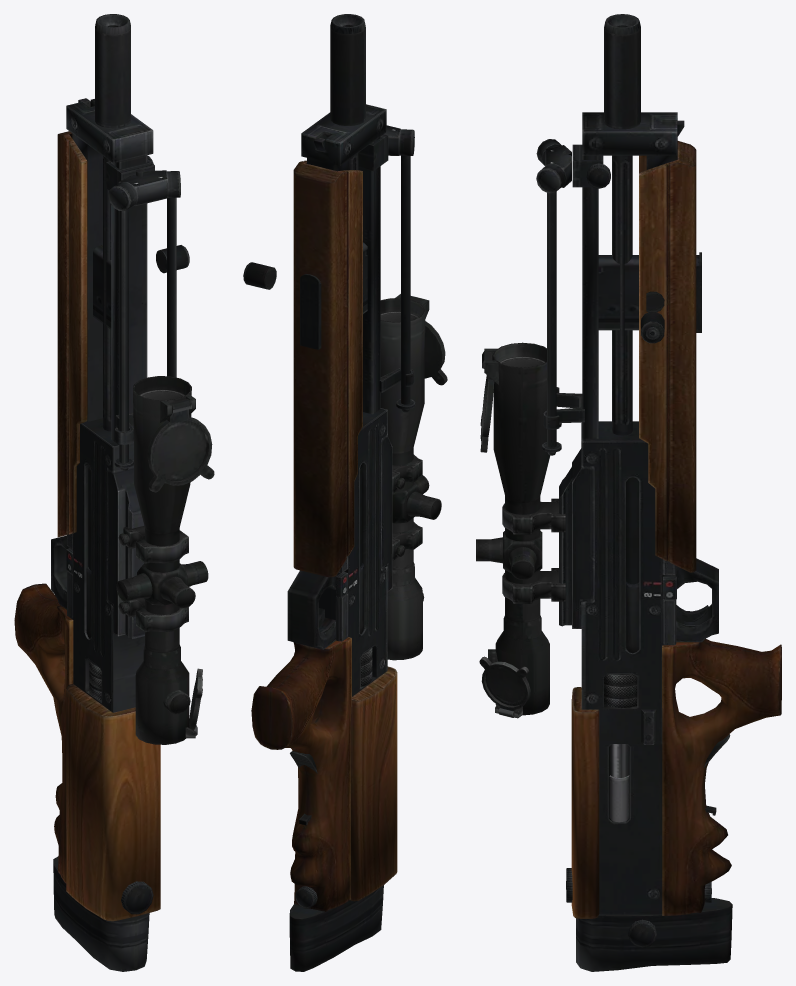
The model's file is Walther_wa2000.obj.
The picture shows the model from 3 angles, left to right: view 1: azimuth 30°, elevation 25°; view 2: azimuth 150°, elevation 25°; view 3: azimuth 270°, elevation 25°; orthographic projection. The views are drawn at different scales.
Parts seen in each view (by area): view 1: Model_Walther_Wa2000, dot_sight, Model_Magazine,bullet, Model_Handle; view 2: Model_Walther_Wa2000, dot_sight, Model_Magazine,bullet, Model_Handle; view 3: Model_Walther_Wa2000, dot_sight, Model_Magazine,bullet, Model_Handle.
Boxes of the visible parts, box(x1,y1,x2,y2) form: Model_Walther_Wa2000: box(14, 14, 180, 971); dot_sight: box(116, 376, 214, 744); Model_Magazine,bullet: box(87, 231, 111, 329); Model_Handle: box(156, 245, 189, 273); Model_Walther_Wa2000: box(251, 14, 415, 971); dot_sight: box(380, 294, 447, 660); Model_Magazine,bullet: box(300, 242, 367, 349); Model_Handle: box(243, 262, 276, 289); Model_Walther_Wa2000: box(536, 14, 781, 971); dot_sight: box(476, 342, 565, 718); Model_Magazine,bullet: box(598, 252, 701, 332); Model_Handle: box(641, 291, 664, 343).
Size of the model in its own units: 0.13 by 0.9141 by 0.2691.
2 materials, 2 textured.
